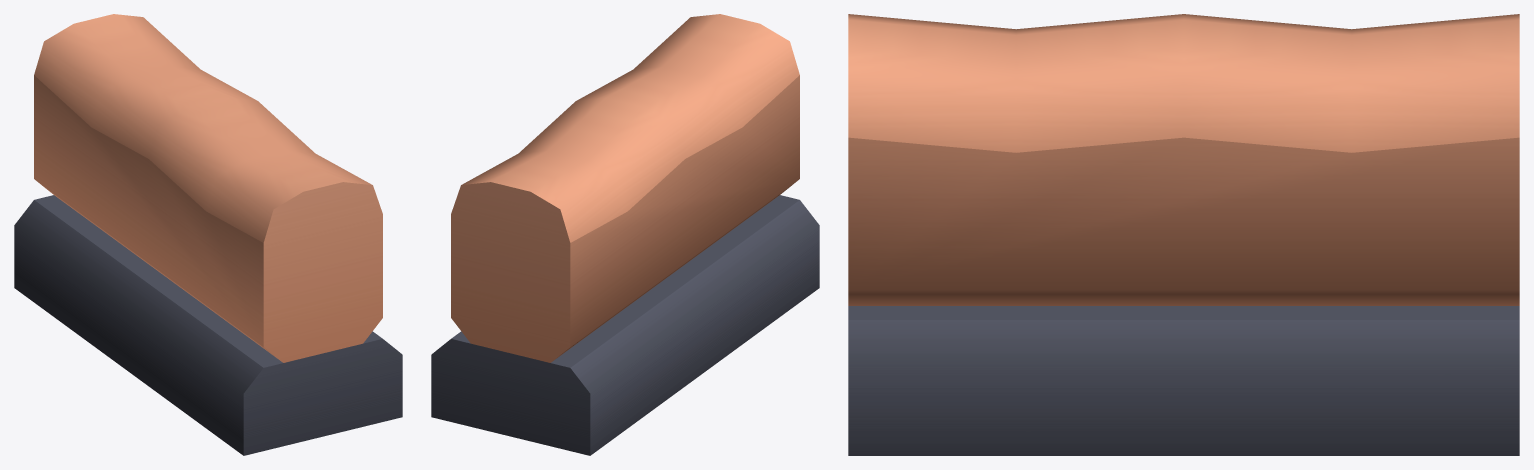
File: hedge-large.glb
The picture shows the model from 3 angles, left to right: view 1: azimuth 30°, elevation 25°; view 2: azimuth 150°, elevation 25°; view 3: azimuth 270°, elevation 25°; orthographic projection. The views are drawn at different scales.
Parts seen in each view (by area): view 1: hedge-large; view 2: hedge-large; view 3: hedge-large.
Boxes of the visible parts, left/top/right/bottom form: hedge-large: left=14, top=14, right=402, bottom=455; hedge-large: left=431, top=14, right=819, bottom=455; hedge-large: left=848, top=14, right=1519, bottom=455.
Bounding box in the file's own units: 0.4 × 0.6 × 1.
Materials: 1 (1 with a texture image).
